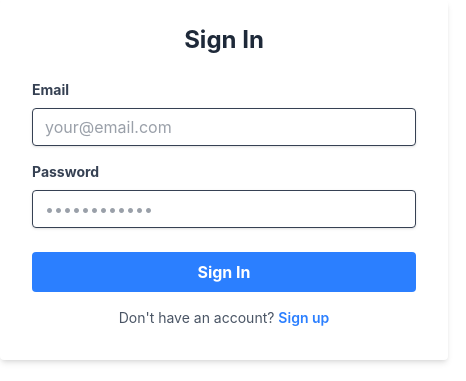
Test: LoginForm › disables form inputs during login
Type "test@example.com" into the field labelled "Email" at (224, 127), box [32,108,416,146]
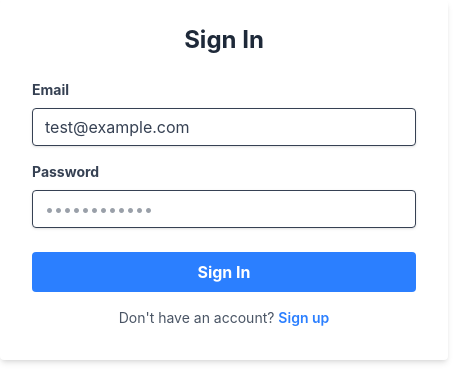
Type "password123" into the password field labelled "Password" at (224, 209), box [32,190,416,228]
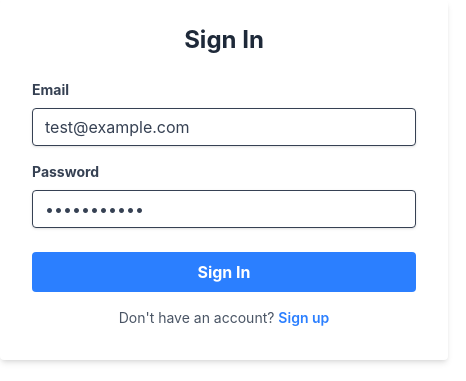
Click the button "Sign In" at (224, 272), box [32,252,416,292]
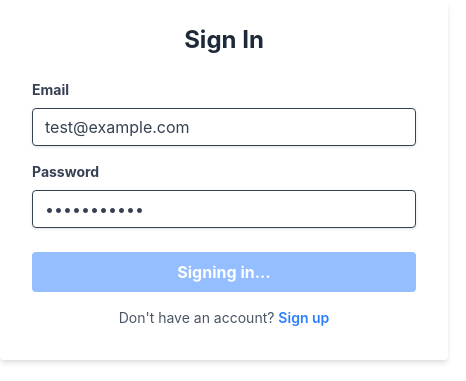
Expected: the field labelled "Email" is disabled, [32,108,416,146]
Now the button named "sign in" is disabled, box [32,252,416,292]
